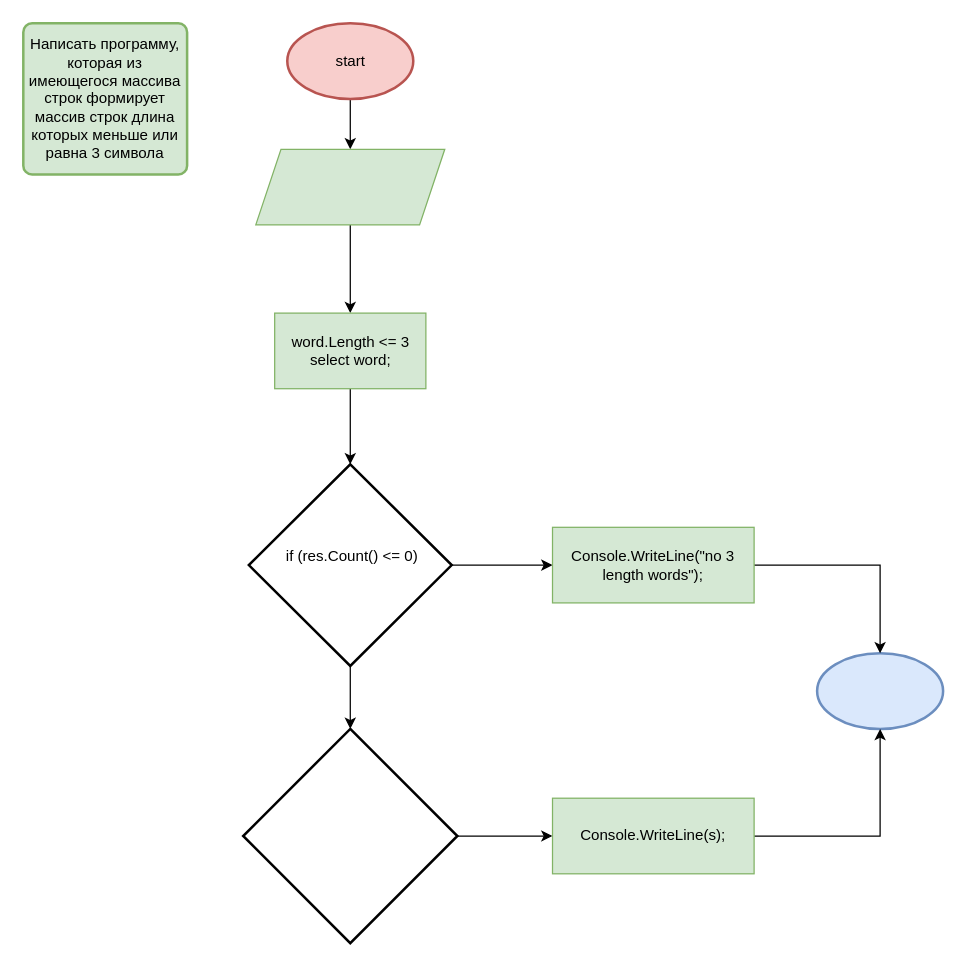
Some shapes in this 965 by 965 pixel diagram are drawn without their labels. The centre of each missing label's shape, as x and y in pixels:
"else foreach (string s in res)" goes at (349,835).
"end" goes at (879,690).
"string text = Console.ReadLine();" goes at (350,186).
